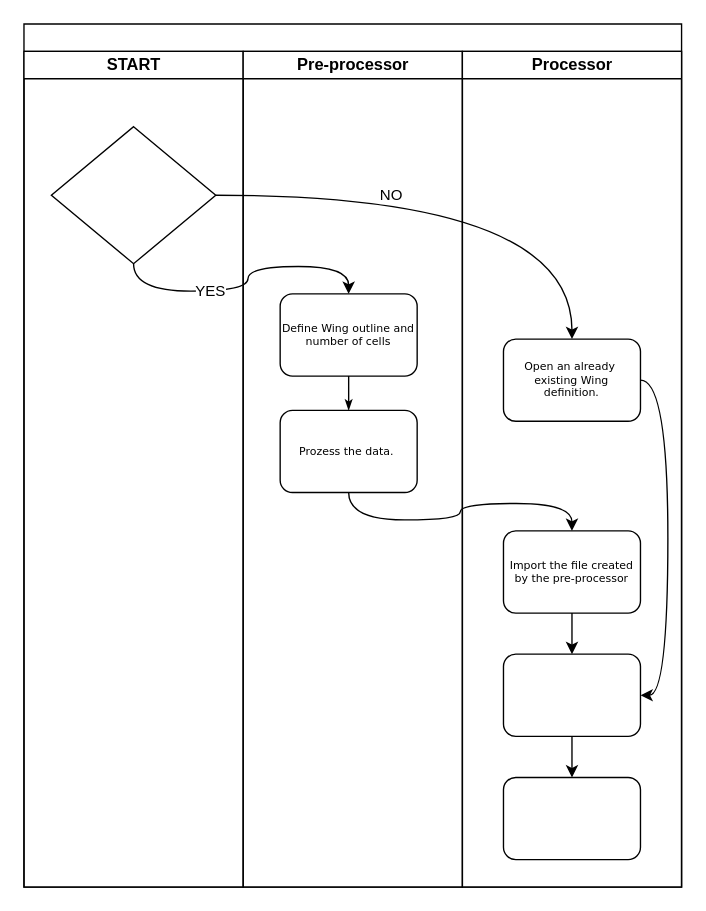
Image size: 706x911. Some labels were removed from this diagram. The shapes that lost their labels are listed below. From the top down, each one's centre as x and y in pixels, then its label:
At [133,194]: "Do you want to start a brand new design?".
At [571,694]: "Edit the wing and plan details".
At [571,818]: "Process the data. You are ready to build.".
